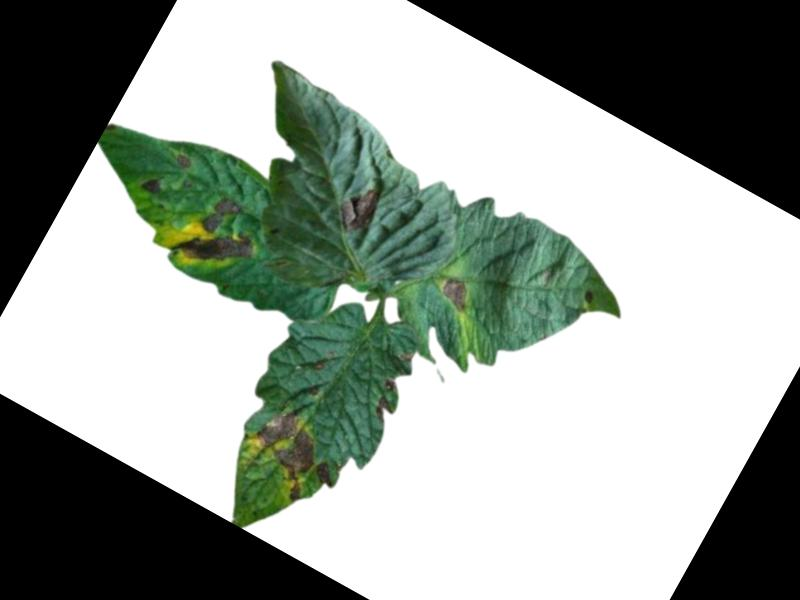Early_blight: (235, 400, 337, 505), (170, 183, 270, 284), (329, 176, 387, 242), (366, 375, 408, 424), (435, 273, 478, 313), (308, 457, 342, 492), (138, 172, 168, 200), (173, 150, 195, 170), (582, 286, 600, 306)
